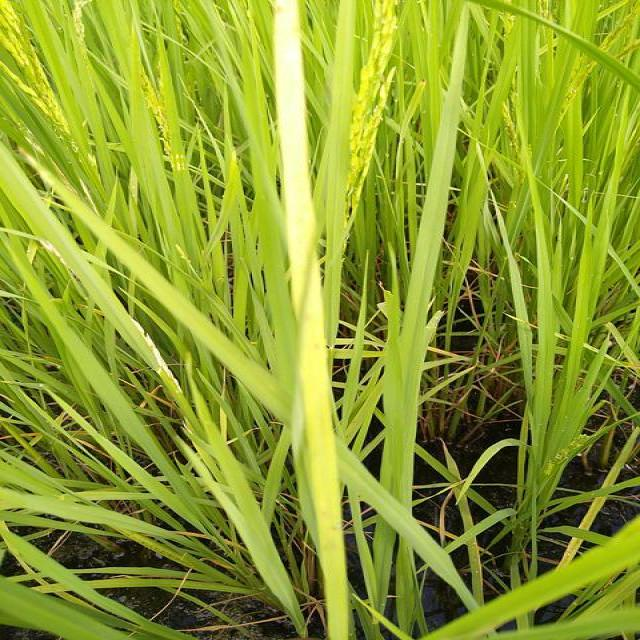Leaf Blight: (268, 0, 351, 639)
